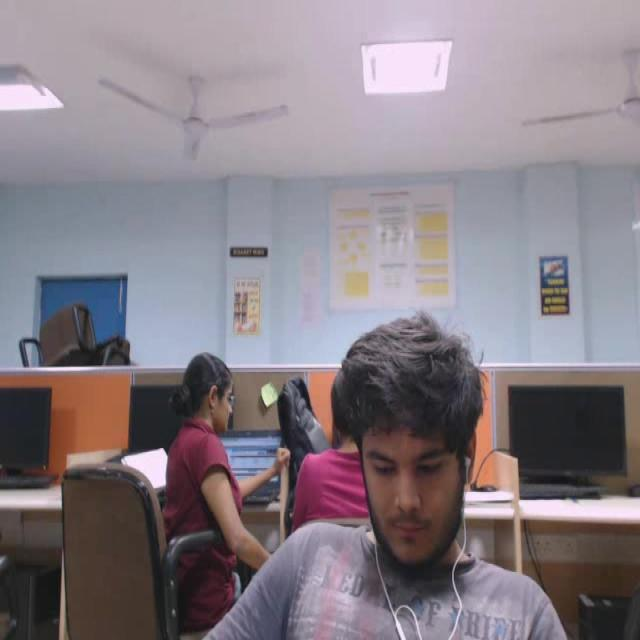Bored: (316, 286, 492, 606)
